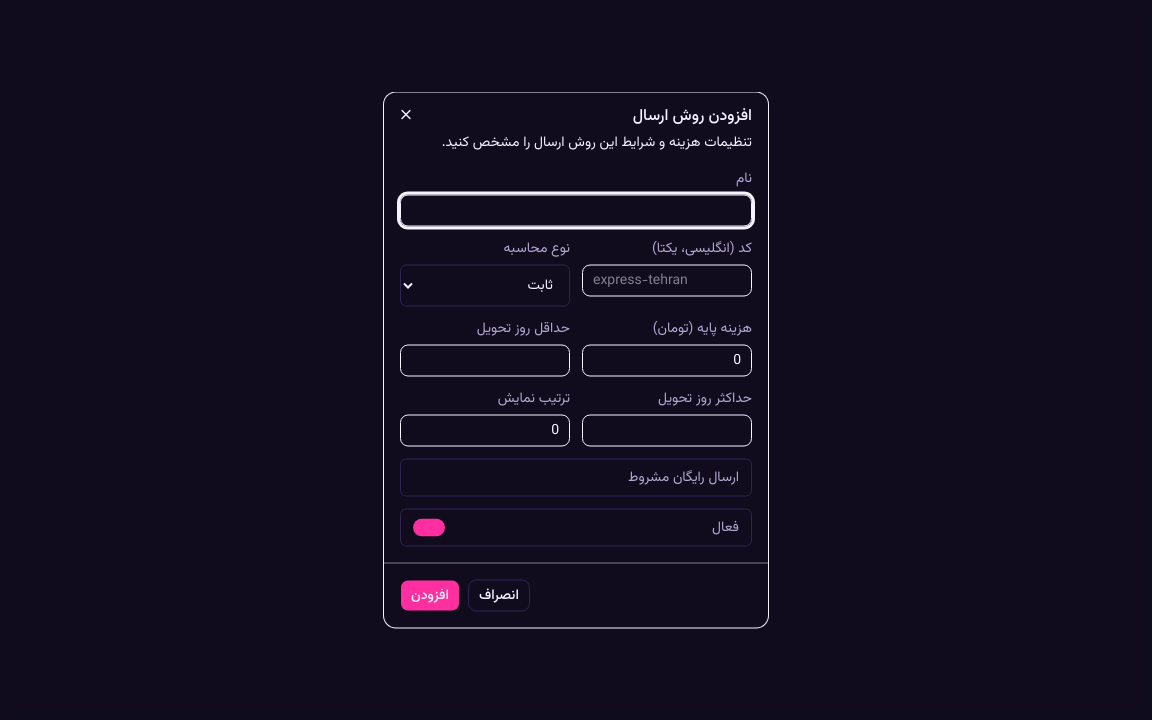
Scenario: ShippingMethodFormDialog › calculation type › shows weight fields when weight type selected
The width and height of the screenshot is (1152, 720).
Select "بر اساس وزن" in the dropdown at (485, 286), box [400,264,570,306]
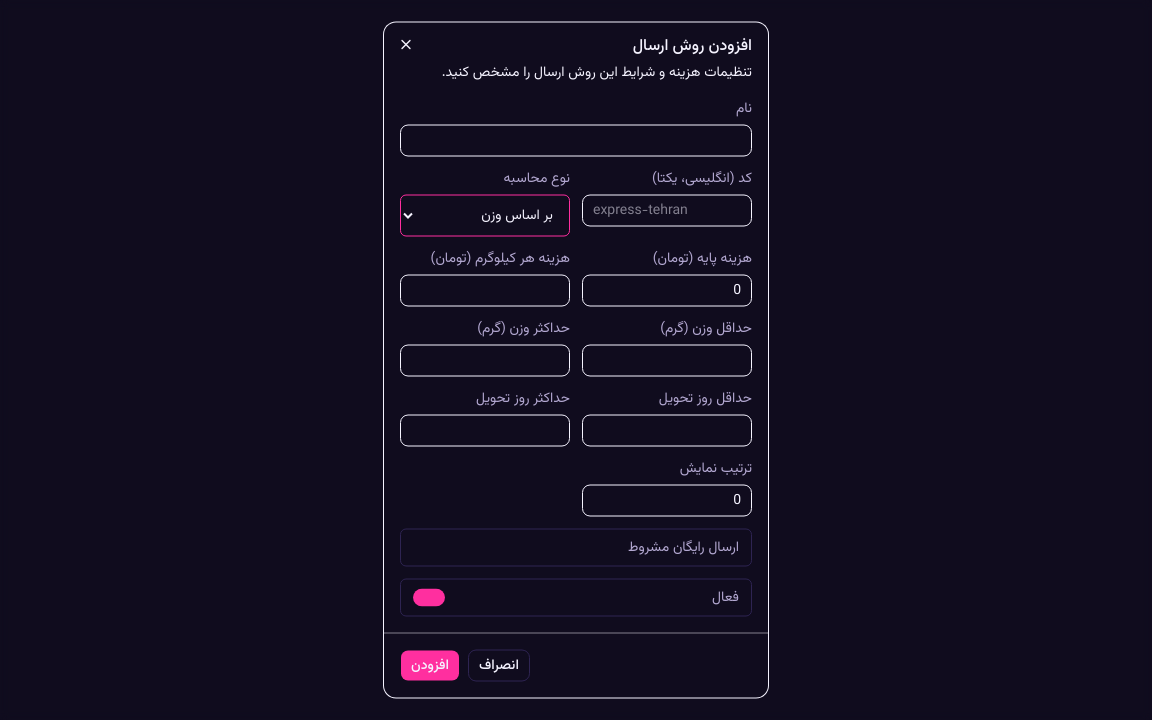
Result: the text "هزینه هر کیلوگرم (تومان)" is shown at [431,248,570,270]
